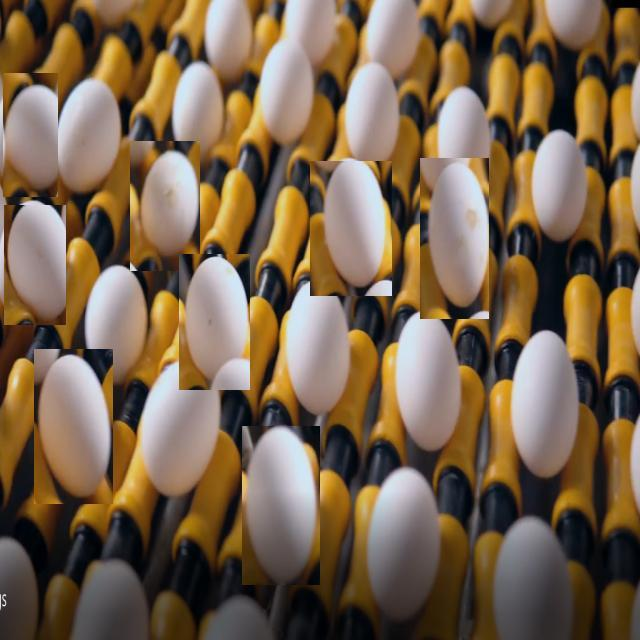Egg: (363, 451, 443, 624), (242, 426, 320, 585), (143, 350, 221, 508), (507, 324, 584, 484), (34, 349, 113, 504), (279, 275, 357, 427), (389, 304, 464, 459), (420, 158, 489, 319), (492, 511, 578, 640), (310, 161, 392, 296), (179, 254, 250, 390), (80, 256, 157, 380), (53, 68, 124, 200), (130, 141, 200, 271), (256, 37, 321, 155), (4, 205, 66, 325), (172, 42, 227, 171), (346, 56, 408, 169), (3, 73, 58, 197), (531, 130, 592, 241), (434, 84, 496, 192), (360, 0, 419, 81), (204, 0, 254, 86)
